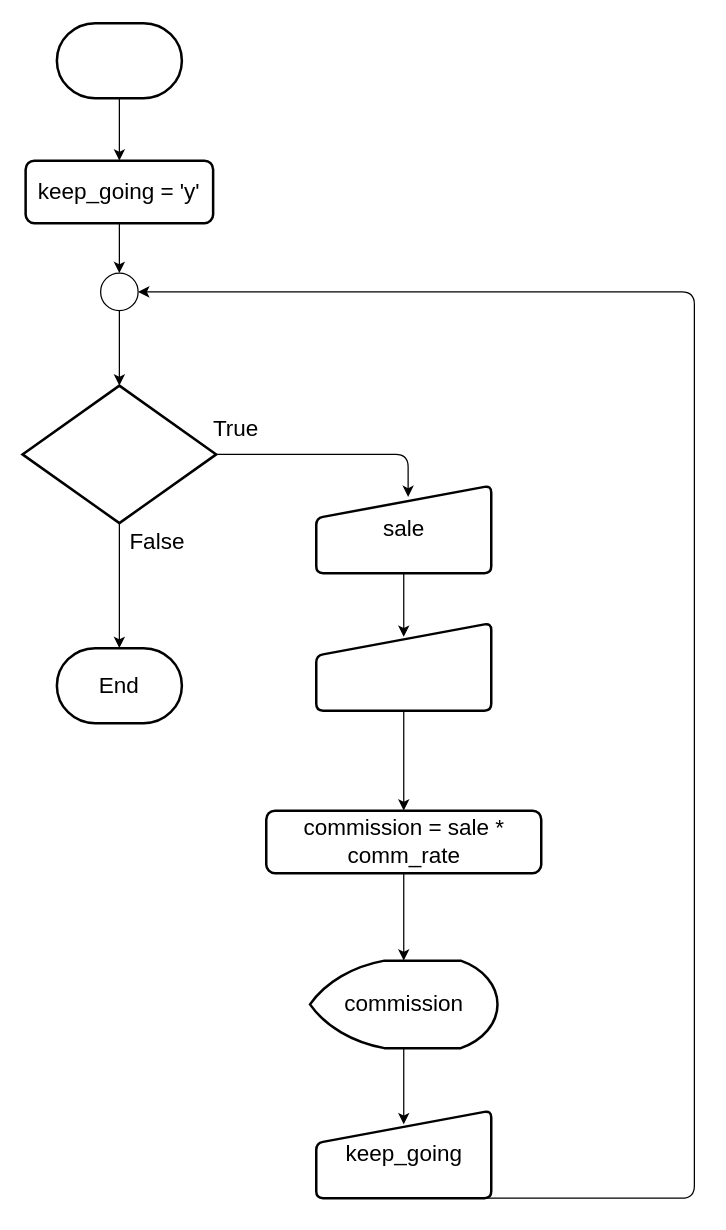
Image size: 726x1230. Some labels were removed from this diagram. The box of each missing label's shape, as (x1, y1, x2, y2) in pixels:
comm_rate: (314, 621, 492, 711)
keep_going == 'y': (21, 384, 217, 524)
start: (55, 21, 182, 99)
